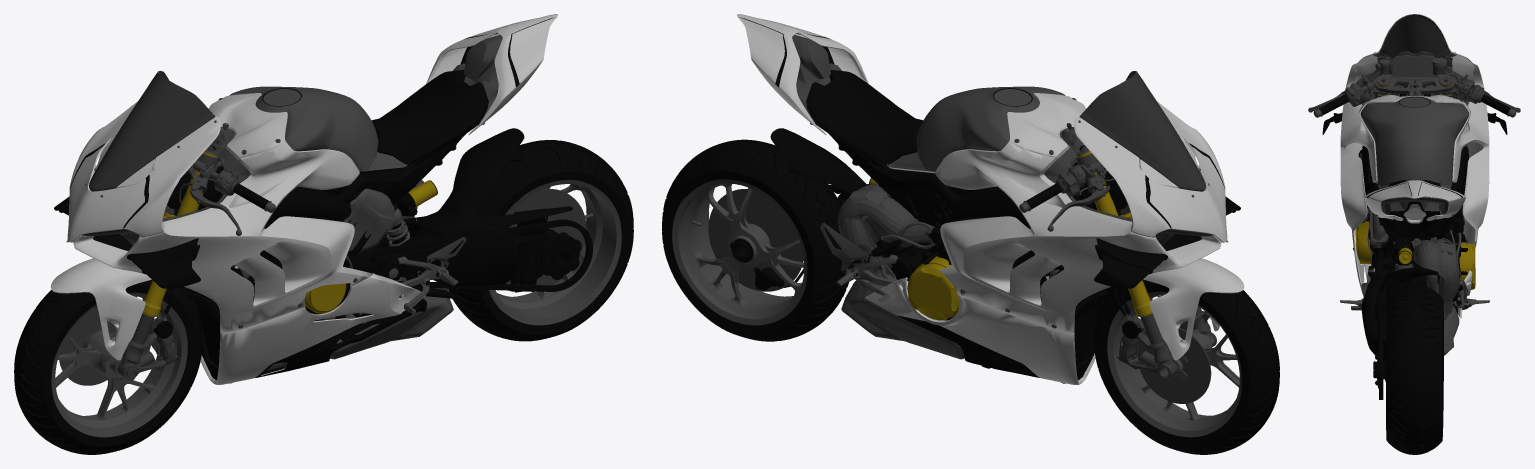
File: moto.glb
3 renders of one model, left to right at view 1: azimuth 30°, elevation 25°; view 2: azimuth 150°, elevation 25°; view 3: azimuth 270°, elevation 25°, orthographic. The views are drawn at different scales.
Visible parts, largest first — view 1: Object_3, Object_22, Object_25; view 2: Object_3, Object_22, Object_25; view 3: Object_3, Object_22, Object_25.
Part boxes in pixels (x1,y1,x2,y2): Object_3: (14, 14, 633, 454); Object_22: (81, 71, 407, 344); Object_25: (153, 74, 572, 338); Object_3: (662, 14, 1279, 454); Object_22: (887, 71, 1212, 344); Object_25: (770, 74, 1141, 338); Object_3: (1308, 14, 1520, 454); Object_22: (1360, 14, 1469, 214); Object_25: (1366, 96, 1463, 340).
Bounding box in the file's own units: 535 × 302 × 199.
Materials: 3 (3 with a texture image).
